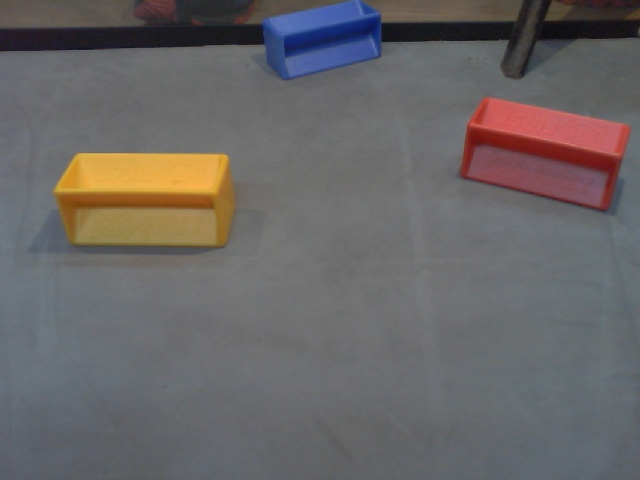BlueSample: (260, 1, 383, 81)
RedSample: (455, 94, 632, 214)
YellowSample: (51, 151, 239, 258)
